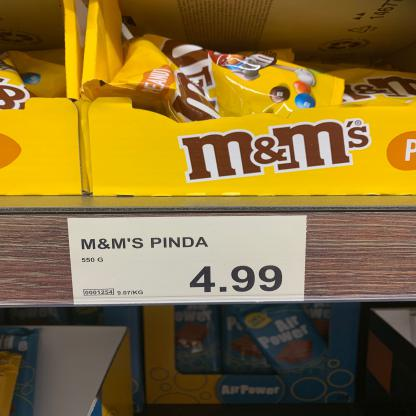prtg: (67, 215, 309, 306)
